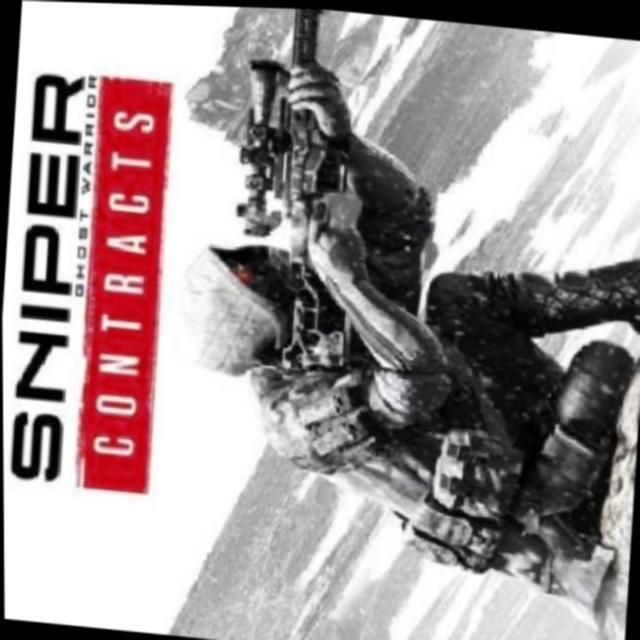weapon: (244, 6, 343, 252)
